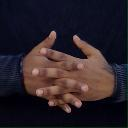hand: (32, 35, 116, 107), (20, 30, 89, 114)
